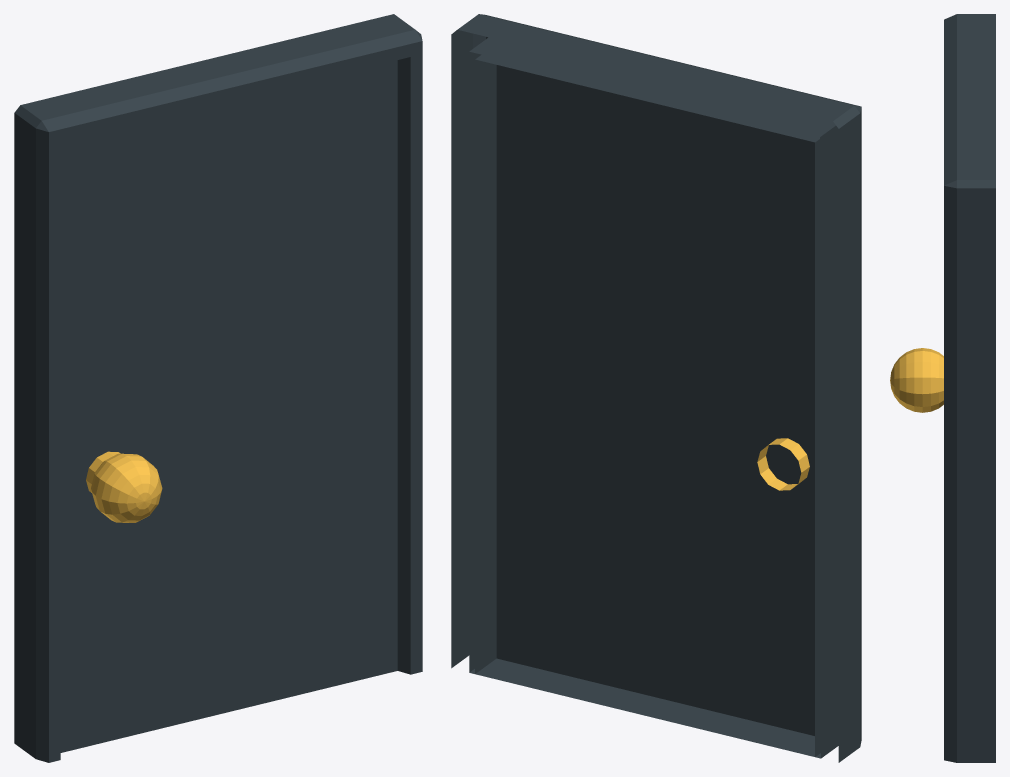
The model's file is obj_door_g.fbx.
3 views of the same model, side by side, from view 1: azimuth 30°, elevation 25°; view 2: azimuth 150°, elevation 25°; view 3: azimuth 270°, elevation 25° (orthographic). The views are drawn at different scales.
Visible parts, largest first — view 1: obj_door_g; view 2: obj_door_g; view 3: obj_door_g.
Part boxes in pixels (x1,y1,x2,y2): obj_door_g: (14, 14, 422, 762); obj_door_g: (451, 14, 861, 762); obj_door_g: (890, 14, 995, 762).
Bounding box in the file's own units: 1.18 × 1.86 × 0.308.
Materials: 1 (1 with a texture image).
